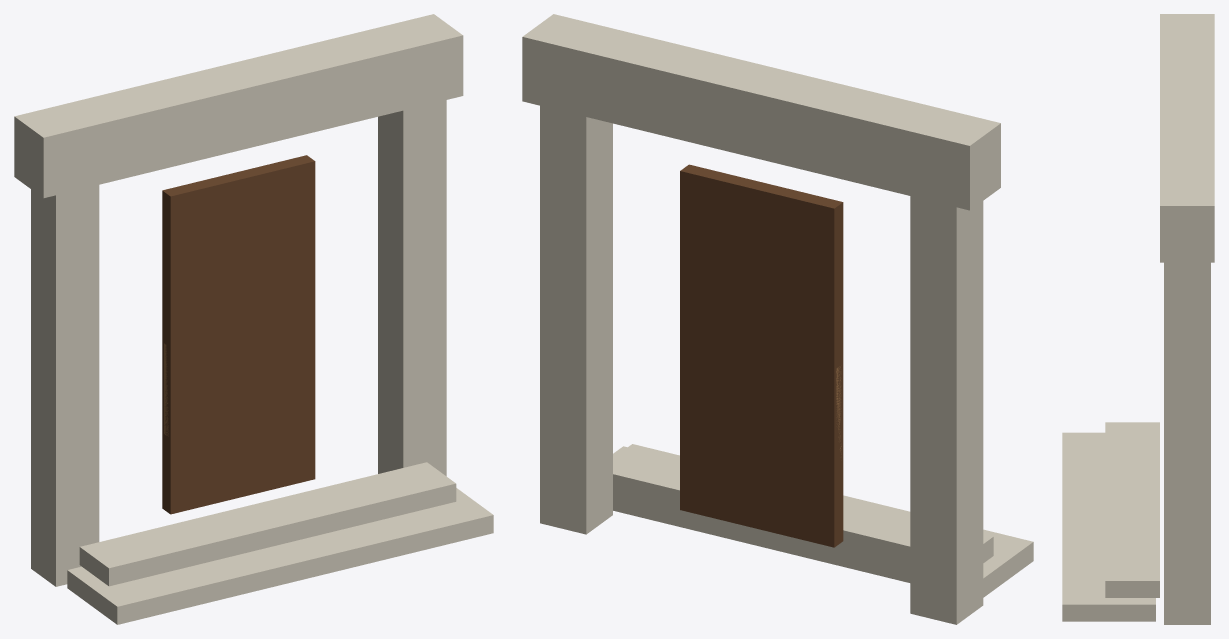
Rendered from arch.portal.glb.
3 renders of one model, left to right at view 1: azimuth 30°, elevation 25°; view 2: azimuth 150°, elevation 25°; view 3: azimuth 270°, elevation 25°, orthographic. The views are drawn at different scales.
Visible parts, largest first — view 1: arch.portal; view 2: arch.portal; view 3: arch.portal.
Part boxes in pixels (x1=…): arch.portal: x1=14, y1=14, x2=493, y2=624; arch.portal: x1=522, y1=14, x2=1033, y2=624; arch.portal: x1=1062, y1=14, x2=1214, y2=624.
Size of the model in its own units: 2.9 by 3 by 0.975.
